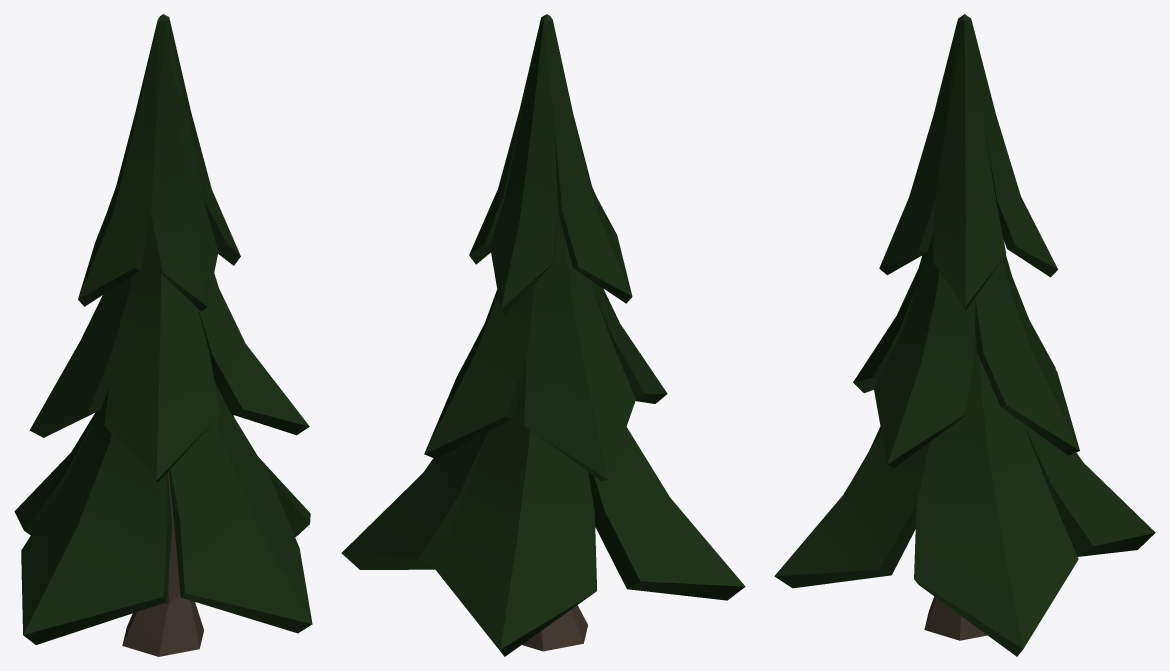
The model's file is SpruceA.fbx.
3 renders of one model, left to right at view 1: azimuth 30°, elevation 25°; view 2: azimuth 150°, elevation 25°; view 3: azimuth 270°, elevation 25°, orthographic. The views are drawn at different scales.
Visible parts, largest first — view 1: SpruceA; view 2: SpruceA; view 3: SpruceA.
Part boxes in pixels (x1=…): SpruceA: x1=14, y1=14, x2=312, y2=656; SpruceA: x1=341, y1=14, x2=745, y2=656; SpruceA: x1=774, y1=14, x2=1155, y2=656.
Bounding box in the file's own units: 403 × 691 × 392.
